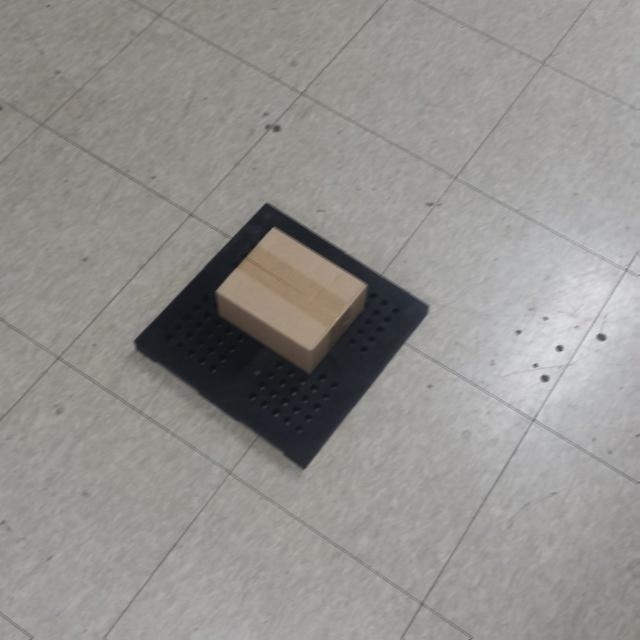box: (210, 216, 374, 380)
pallet: (132, 195, 436, 474)
